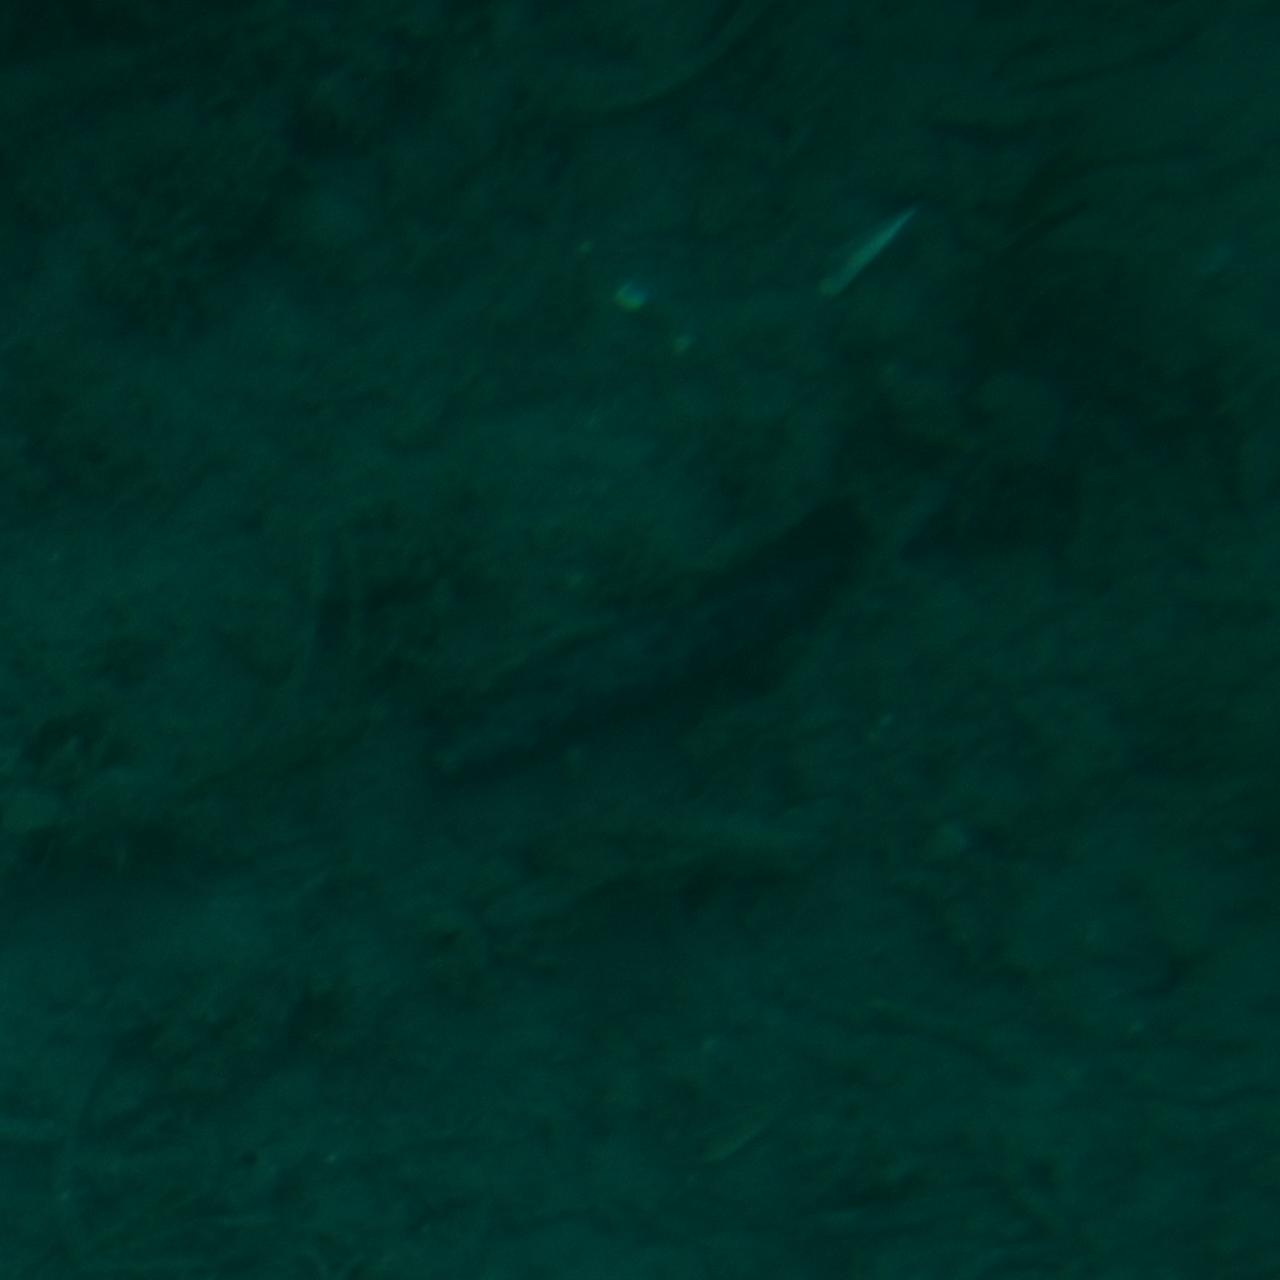Holothuria tubulosa: (406, 482, 874, 798)
